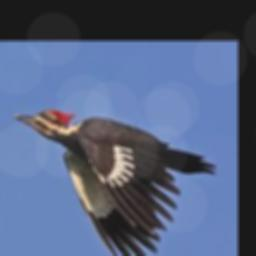Woodpecker: (14, 109, 217, 256)
